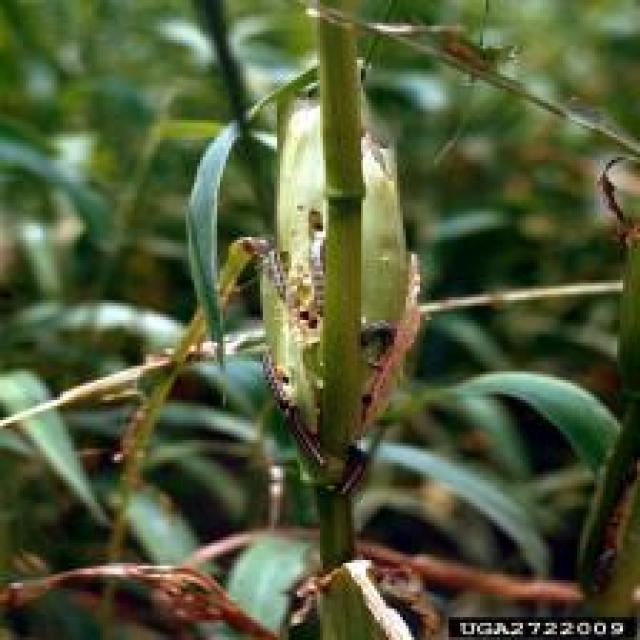Plaga: (285, 408, 331, 474), (338, 444, 378, 504), (310, 235, 335, 318), (257, 346, 291, 406), (358, 320, 404, 357), (265, 248, 291, 303)
